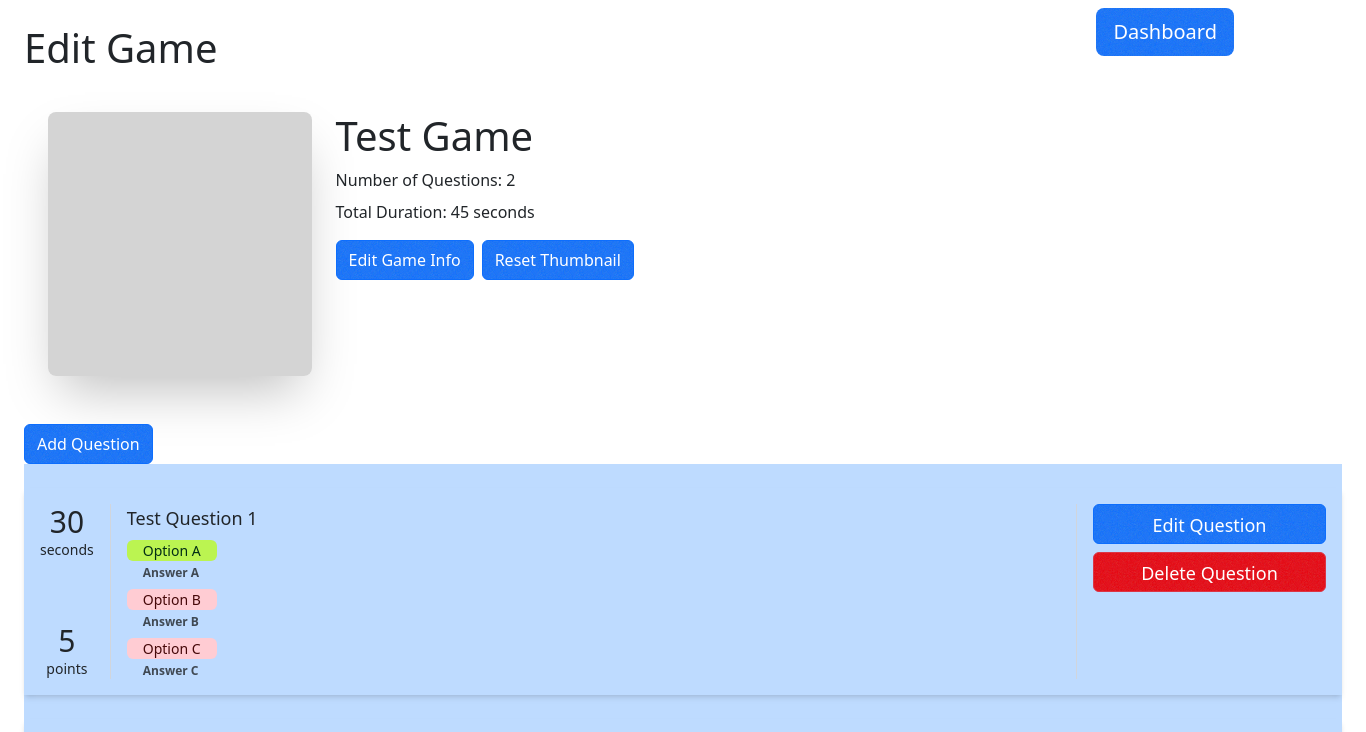
Test case: Display Questions Component › deletes a question when delete button is clicked
Expected: the text "Test Question 1" is shown, 127,506 -> 258,530
// click the delete button for the first question
Click the button "Delete Question": coordinates (1210, 572) 1093,552 -> 1326,592
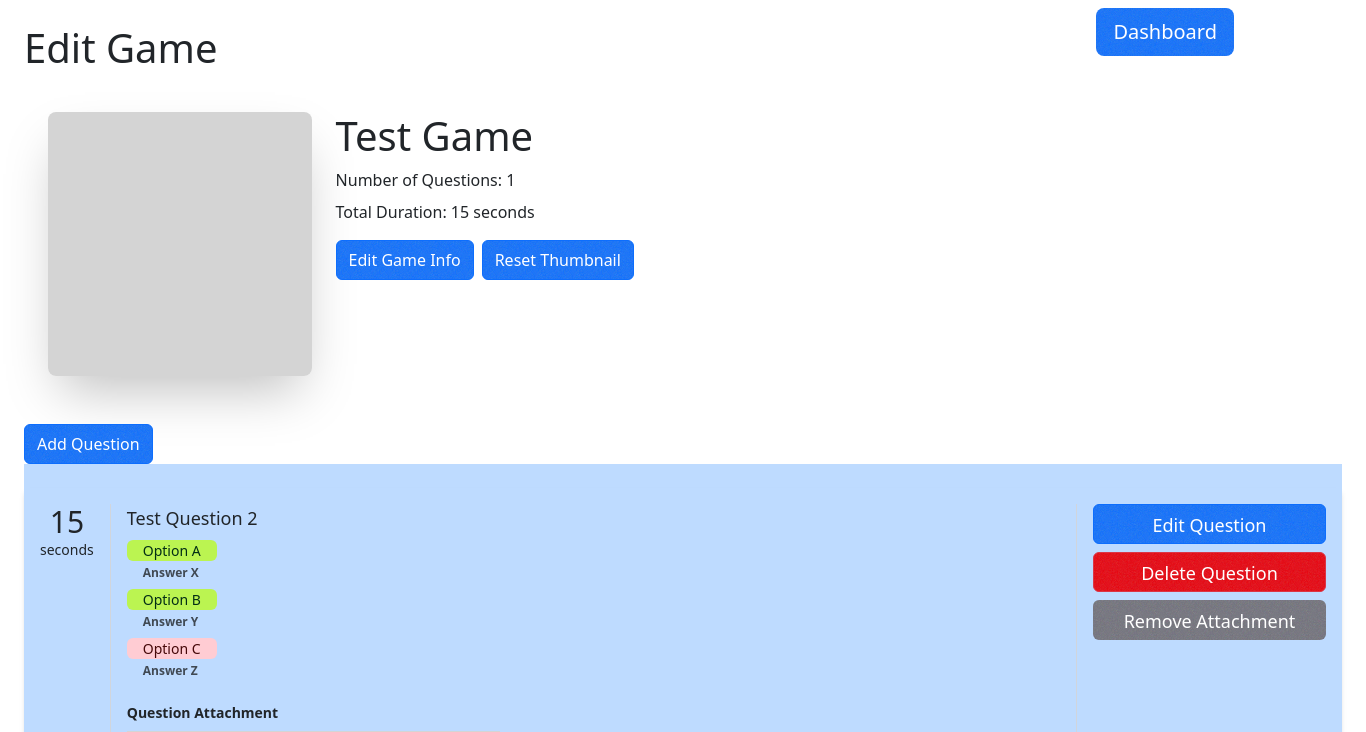
Expected: the text "Test Question 1" is gone
Expected: the text "Test Question 2" is shown, 127,506 -> 258,530
